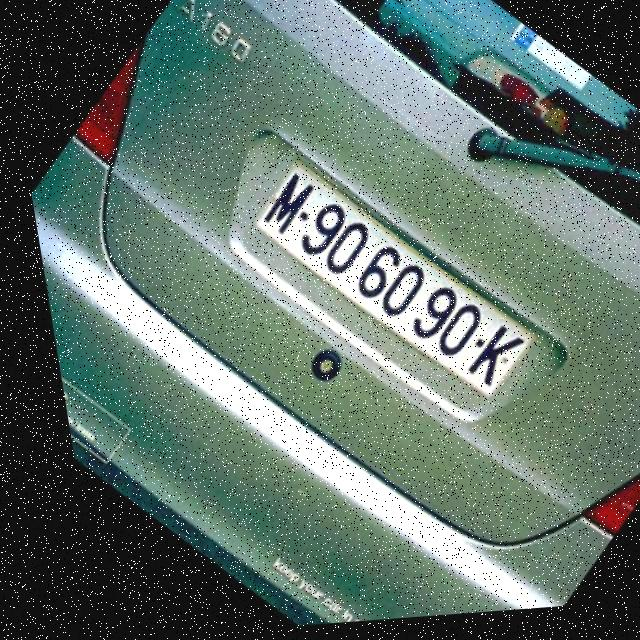license_plate: (231, 146, 530, 418)
